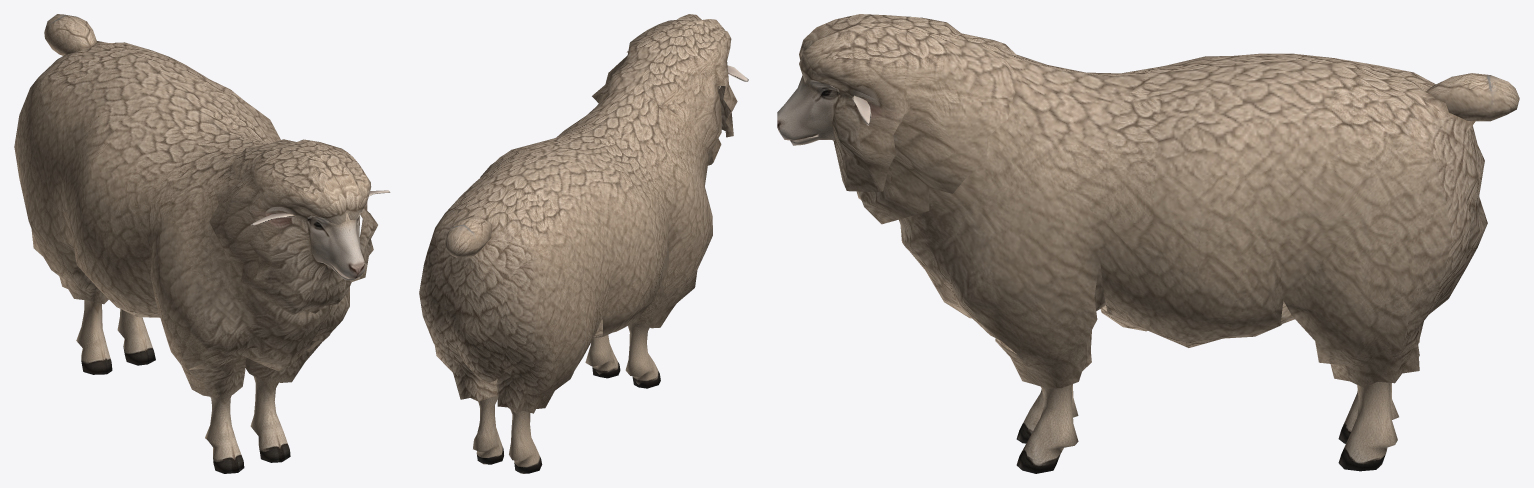
3 views of the same model, side by side, from view 1: azimuth 30°, elevation 25°; view 2: azimuth 150°, elevation 25°; view 3: azimuth 270°, elevation 25° (orthographic). The views are drawn at different scales.
Visible parts, largest first — view 1: Mesh_0; view 2: Mesh_0; view 3: Mesh_0.
Boxes of the visible parts, bbox=[...] form: Mesh_0: bbox=[14, 14, 390, 473]; Mesh_0: bbox=[419, 14, 748, 473]; Mesh_0: bbox=[777, 14, 1519, 473].
Size of the model in its own units: 38.09 by 64.06 by 100.
1 material, 1 textured.
